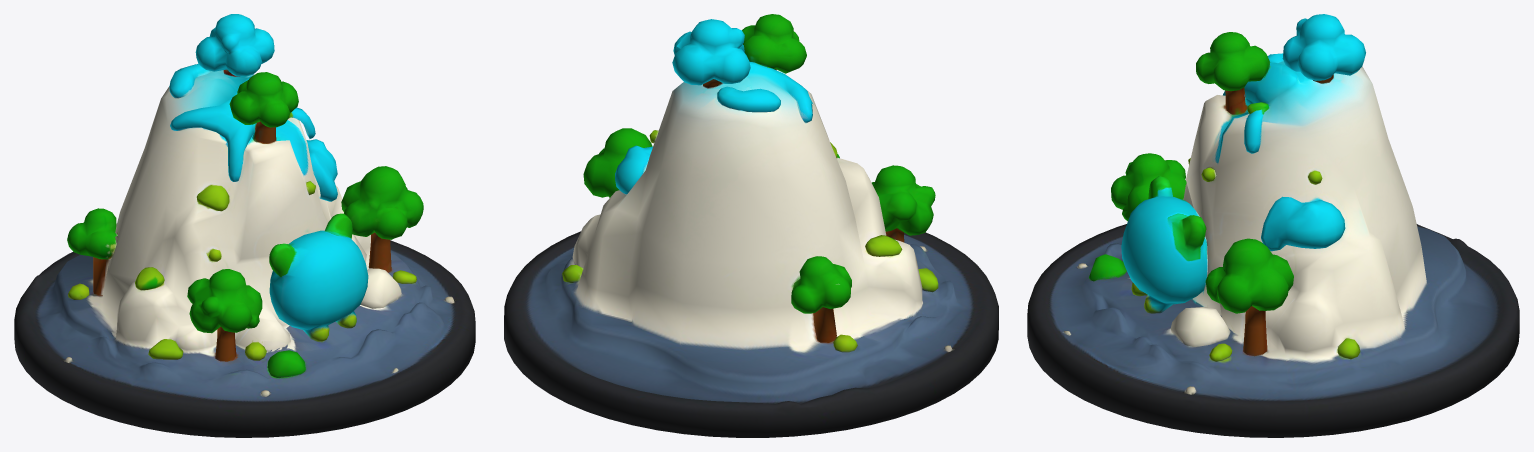
File: viet-envi-1.glb
3 views of the same model, side by side, from view 1: azimuth 30°, elevation 25°; view 2: azimuth 150°, elevation 25°; view 3: azimuth 270°, elevation 25° (orthographic). The views are drawn at different scales.
Visible parts, largest first — view 1: tripo_node_4cbbf6b5-0eab-4fdd-a139-e4ec36bdee63; view 2: tripo_node_4cbbf6b5-0eab-4fdd-a139-e4ec36bdee63; view 3: tripo_node_4cbbf6b5-0eab-4fdd-a139-e4ec36bdee63.
Boxes of the visible parts, box(x1,y1,x2,y2) form: tripo_node_4cbbf6b5-0eab-4fdd-a139-e4ec36bdee63: box(14, 14, 475, 437); tripo_node_4cbbf6b5-0eab-4fdd-a139-e4ec36bdee63: box(504, 14, 998, 437); tripo_node_4cbbf6b5-0eab-4fdd-a139-e4ec36bdee63: box(1027, 14, 1519, 437).
Bounding box in the file's own units: 0.9995 × 0.7261 × 0.9995.
1 material, 1 textured.
